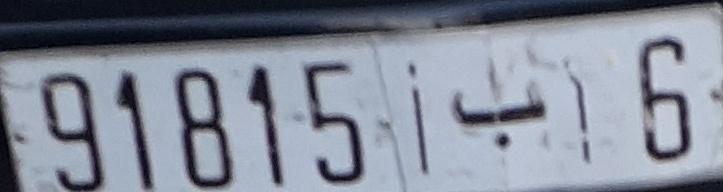1: (105, 66, 159, 192), (239, 63, 289, 192)
5: (298, 61, 368, 185)
6: (632, 32, 699, 164)
8: (170, 64, 238, 191)
9: (33, 70, 105, 192)
b: (443, 78, 552, 152)
